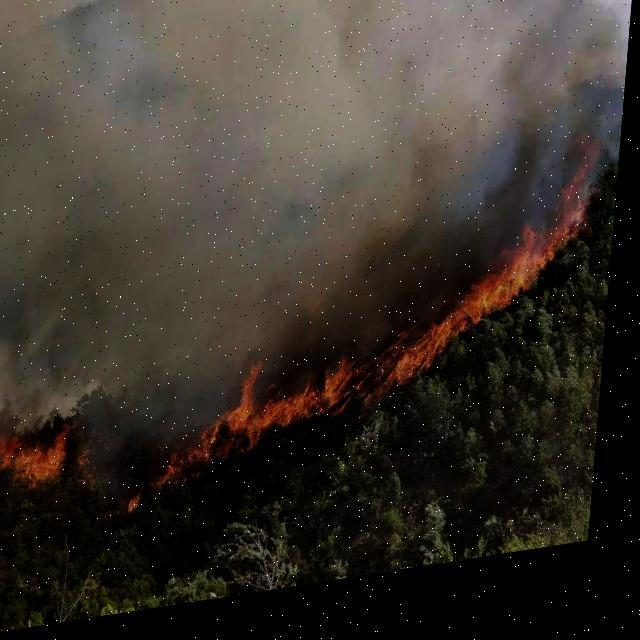Fire: (155, 168, 606, 491), (0, 412, 88, 507)
